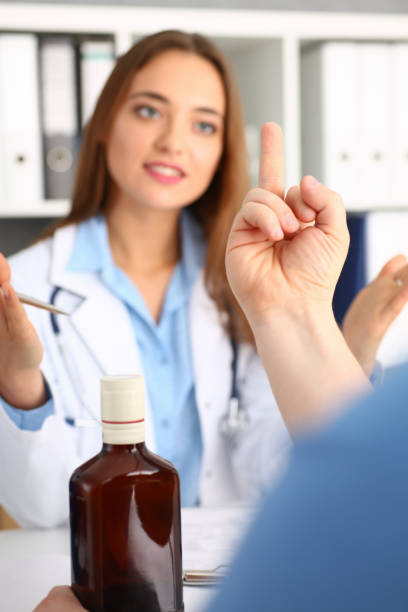insulting_gesture: (225, 118, 349, 304)
